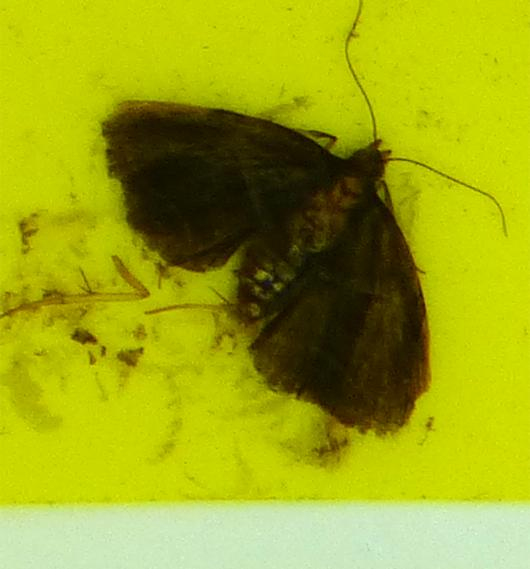Lepidoptera: (100, 100, 430, 469)
